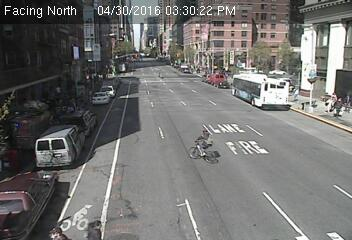neg: (210, 21, 240, 61), (192, 124, 220, 163), (228, 134, 256, 171), (13, 98, 37, 130), (48, 44, 72, 76), (101, 63, 123, 93), (6, 188, 28, 217), (70, 109, 88, 134), (297, 41, 315, 65), (206, 68, 222, 90), (45, 146, 59, 164)
pos: (86, 212, 102, 234), (323, 88, 338, 107), (335, 98, 348, 115)
